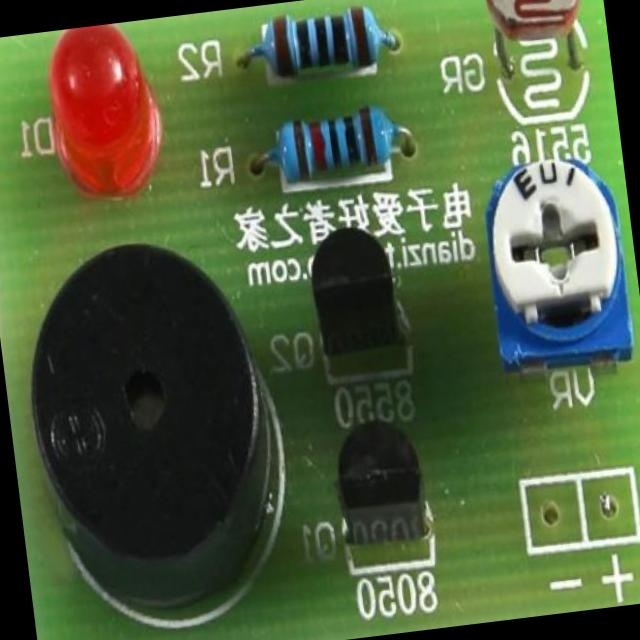LED: (36, 19, 165, 196)
potentiometer: (474, 148, 634, 374)
resistor: (258, 93, 406, 185), (254, 2, 392, 86)
